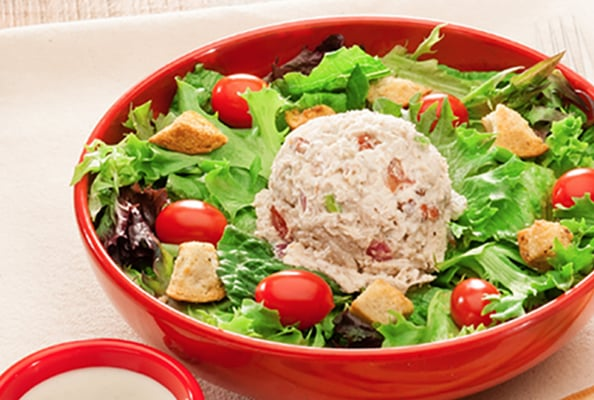sushi: (69, 8, 594, 392), (0, 338, 205, 397)
